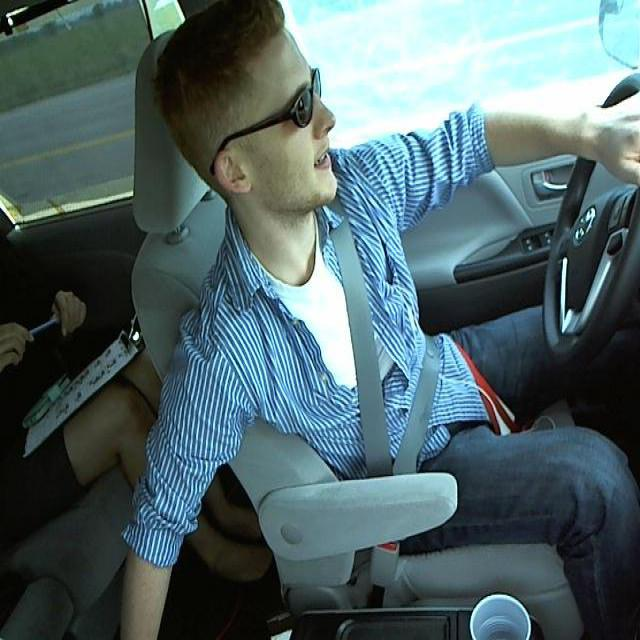seatbelt: (326, 228, 458, 476)
